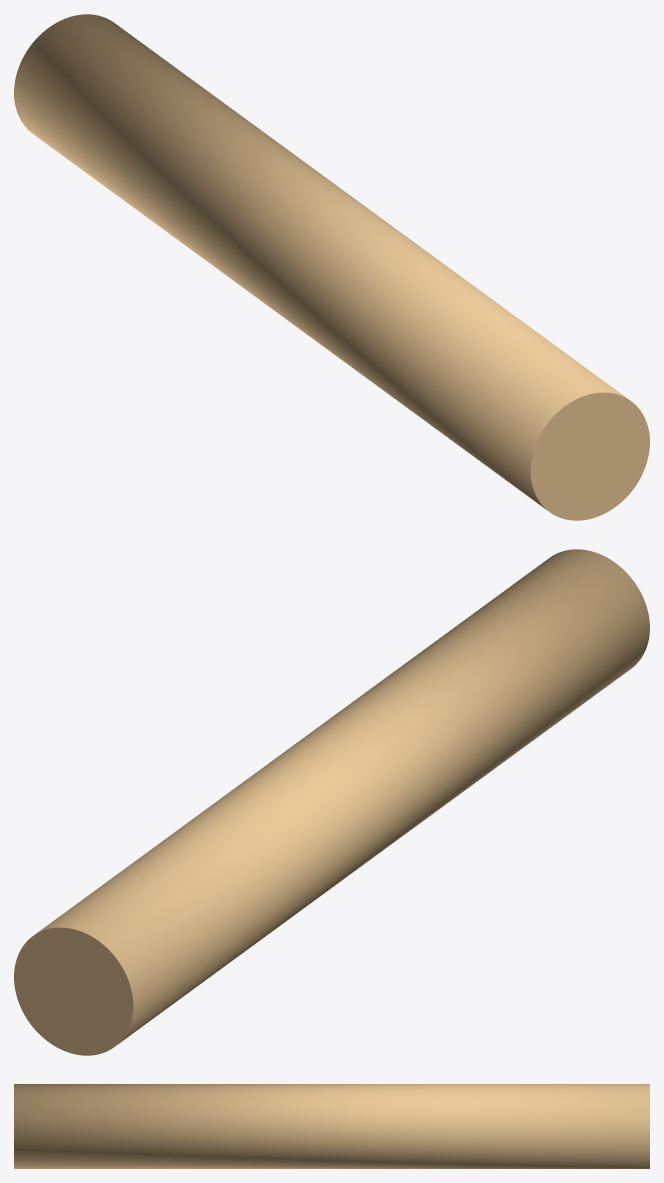
Rendered from short.fbx.
3 views of the same model, one above another, from view 1: azimuth 30°, elevation 25°; view 2: azimuth 150°, elevation 25°; view 3: azimuth 270°, elevation 25° (orthographic). The views are drawn at different scales.
Parts seen in each view (by area): view 1: Cylinder.002; view 2: Cylinder.002; view 3: Cylinder.002.
Part boxes in pixels (left/top/right/bottom): Cylinder.002: left=14, top=14, right=649, bottom=520; Cylinder.002: left=14, top=549, right=649, bottom=1055; Cylinder.002: left=14, top=1084, right=649, bottom=1168.
Bounding box in the file's own units: 0.4 × 0.4 × 3.
